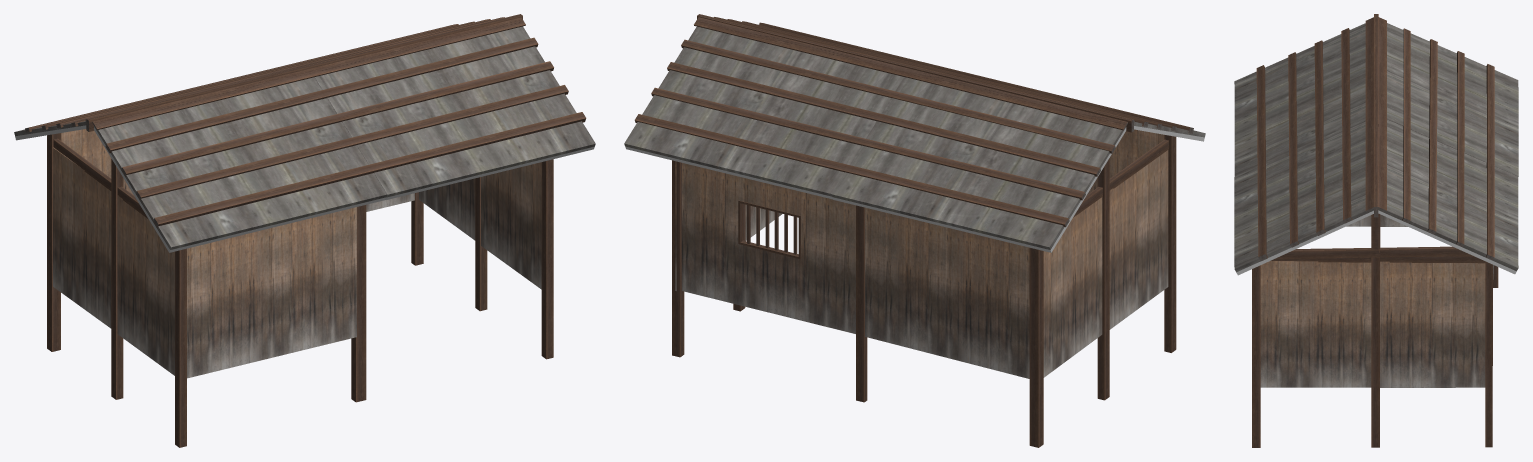
The model's file is jov_shed01b.fbx.
3 views of the same model, side by side, from view 1: azimuth 30°, elevation 25°; view 2: azimuth 150°, elevation 25°; view 3: azimuth 270°, elevation 25° (orthographic). The views are drawn at different scales.
Visible parts, largest first — view 1: jov_shed01b; view 2: jov_shed01b; view 3: jov_shed01b.
Boxes of the visible parts, x1,y1,x2,y2 form: jov_shed01b: (14, 14, 595, 447); jov_shed01b: (624, 14, 1205, 447); jov_shed01b: (1234, 14, 1518, 447).
Size of the model in its own units: 816 by 511 by 511.
